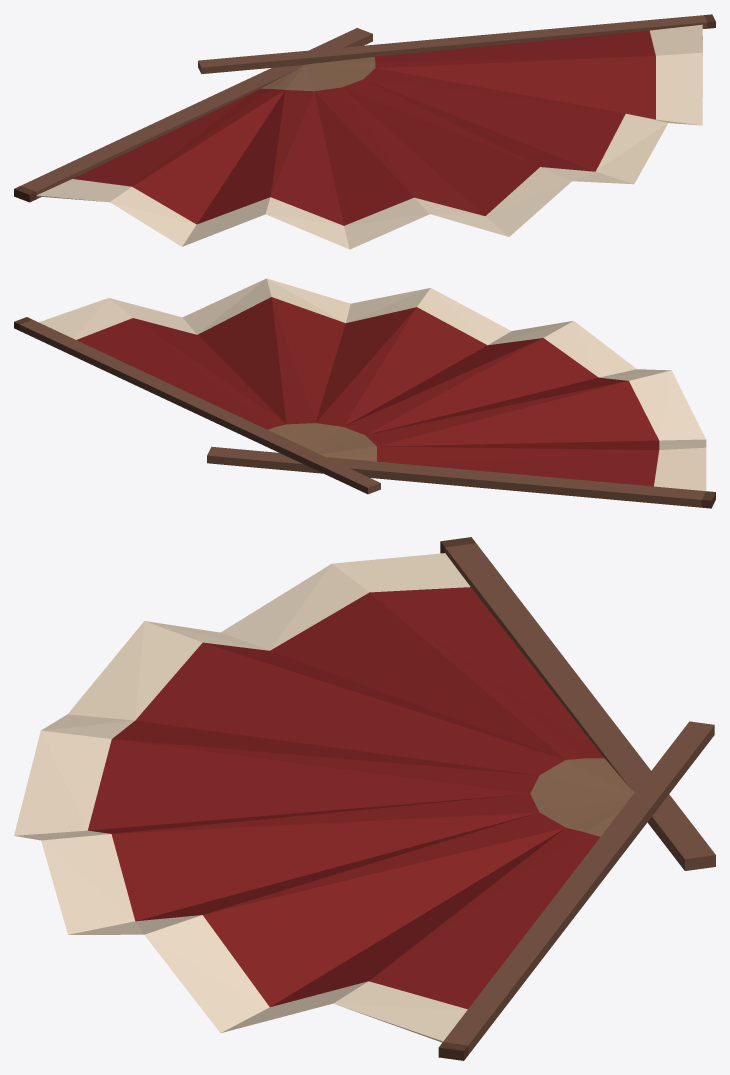
File: Fan_2  Asia.fbx
3 renders of one model, top to bottom at view 1: azimuth 30°, elevation 25°; view 2: azimuth 150°, elevation 25°; view 3: azimuth 270°, elevation 25°, orthographic. The views are drawn at different scales.
Visible parts, largest first — view 1: Fan_2; view 2: Fan_2; view 3: Fan_2.
Part boxes in pixels (x1,y1,x2,y2): Fan_2: (14, 14, 715, 249); Fan_2: (14, 278, 715, 508); Fan_2: (14, 537, 715, 1060).
Bounding box in the file's own units: 0.3313 × 0.0195 × 0.1876.
